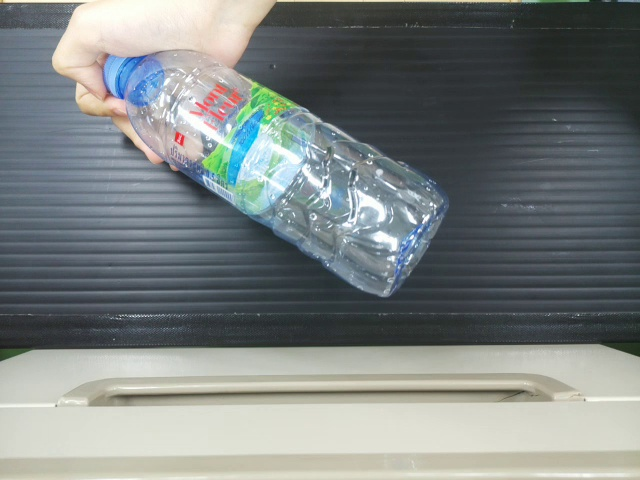bottle: (101, 48, 443, 296)
